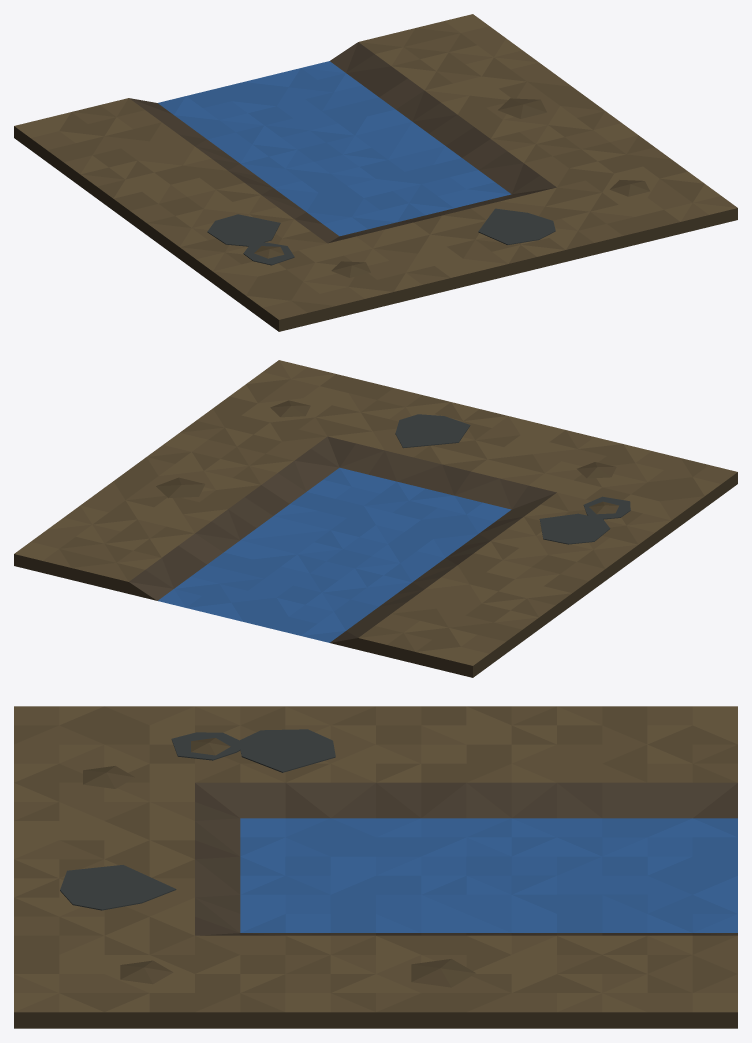
Rendered from river_end_mud.glb.
3 views of the same model, one above another, from view 1: azimuth 30°, elevation 25°; view 2: azimuth 150°, elevation 25°; view 3: azimuth 270°, elevation 25° (orthographic). The views are drawn at different scales.
Parts seen in each view (by area): view 1: river_end_mud; view 2: river_end_mud; view 3: river_end_mud.
Boxes of the visible parts, <box> form: river_end_mud: <box>14,14,737,331</box>; river_end_mud: <box>14,360,737,677</box>; river_end_mud: <box>14,706,737,1028</box>.
Size of the model in its own units: 4 by 0.13 by 4.
